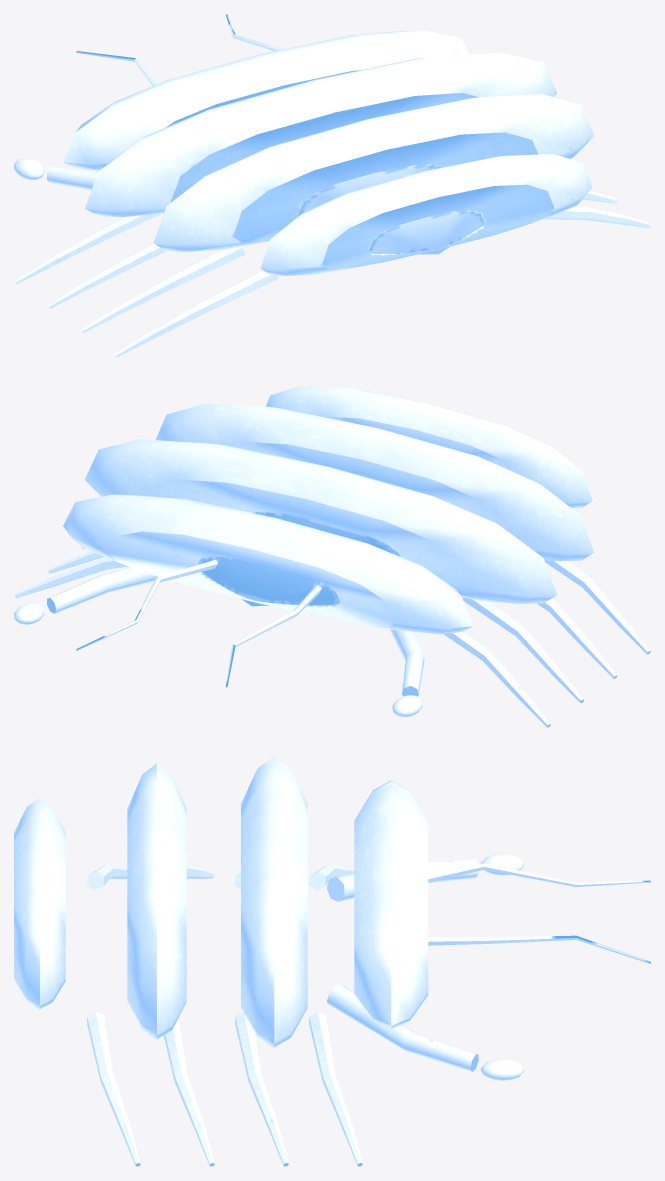
The model's file is chaceon_quinquedens.glb.
3 renders of one model, top to bottom at view 1: azimuth 30°, elevation 25°; view 2: azimuth 150°, elevation 25°; view 3: azimuth 270°, elevation 25°, orthographic. The views are drawn at different scales.
Visible parts, largest first — view 1: chaceon_quinquedens; view 2: chaceon_quinquedens; view 3: chaceon_quinquedens.
Boxes of the visible parts, <box> form: chaceon_quinquedens: <box>14,14,650,357</box>; chaceon_quinquedens: <box>14,386,650,727</box>; chaceon_quinquedens: <box>14,756,650,1166</box>.
Size of the model in its own units: 0.6234 by 0.1868 by 0.5784.
1 material, 1 textured.
